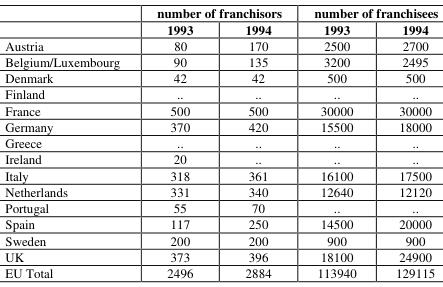table: (4, 3, 437, 280)
table column: (4, 3, 137, 280), (137, 3, 218, 280), (218, 3, 297, 280), (297, 3, 375, 280), (375, 3, 437, 280)
table column header: (4, 3, 437, 37)
table row: (4, 3, 437, 21), (4, 52, 437, 69), (4, 117, 437, 134), (4, 182, 437, 199), (4, 247, 437, 264), (4, 21, 437, 37), (4, 69, 437, 85), (4, 85, 437, 101), (4, 101, 437, 117), (4, 134, 437, 150), (4, 150, 437, 166), (4, 166, 437, 182), (4, 199, 437, 215), (4, 215, 437, 231), (4, 231, 437, 247), (4, 264, 437, 280), (4, 37, 437, 52)
table spanning cell: (137, 3, 297, 21), (297, 3, 437, 21)
